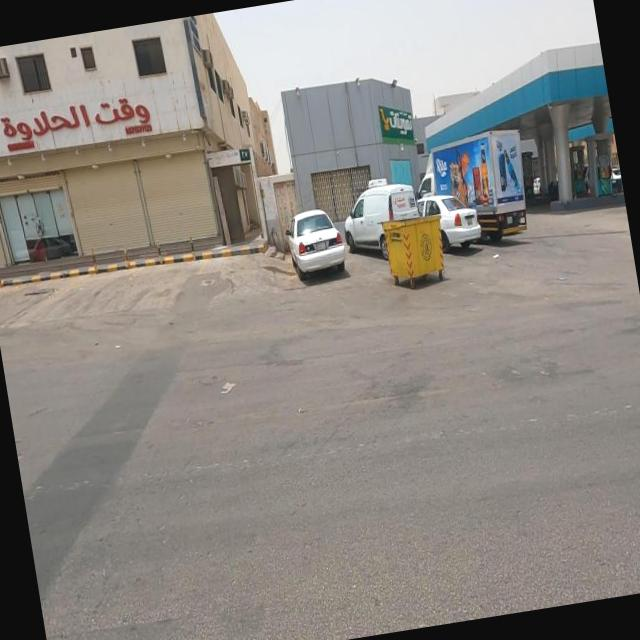debris: (470, 226, 520, 286)
